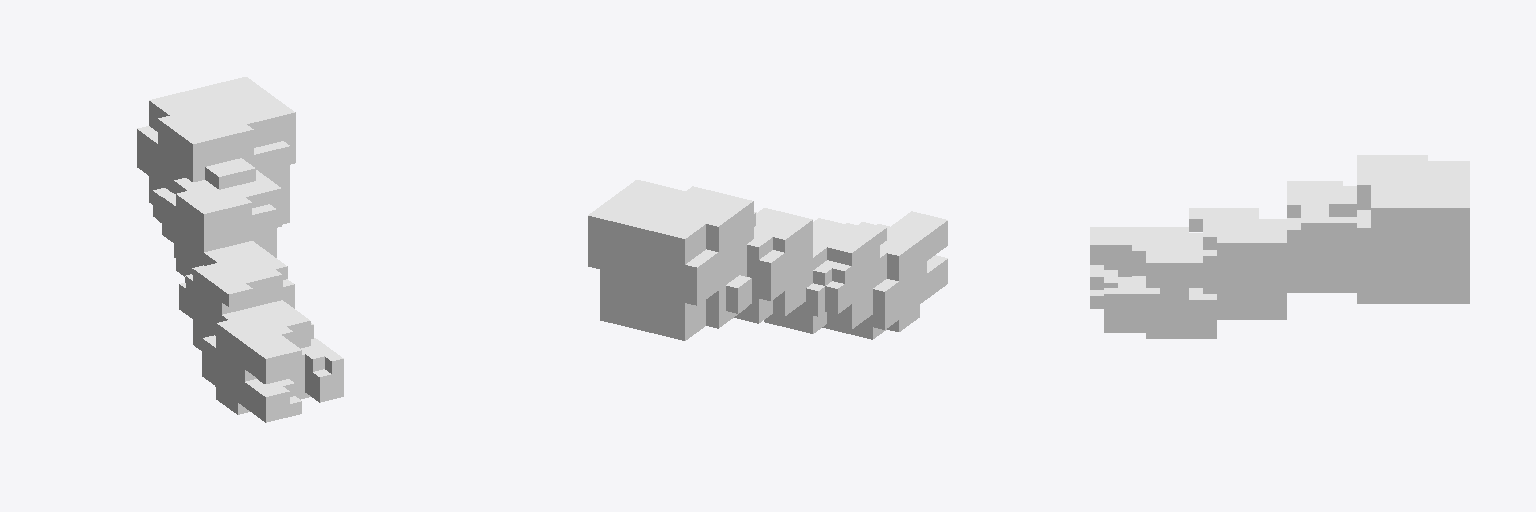
The model's file is graveler-v4-1.obj.
3 views of the same model, side by side, from view 1: azimuth 30°, elevation 25°; view 2: azimuth 150°, elevation 25°; view 3: azimuth 270°, elevation 25° (orthographic).
Visible parts, largest first — view 1: object 1; view 2: object 1; view 3: object 1.
Boxes of the visible parts, <box> form: object 1: <box>137,77,343,422</box>; object 1: <box>588,180,947,340</box>; object 1: <box>1090,155,1469,338</box>.
Size of the model in its own units: 1.4 by 1.4 by 2.7.